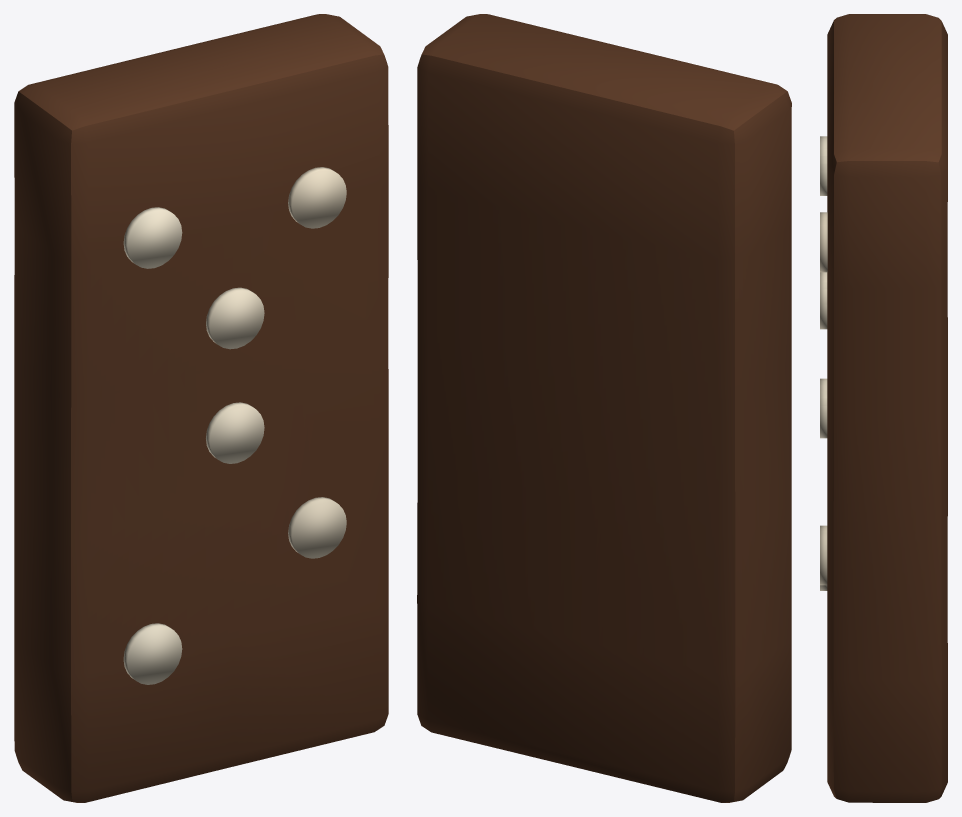
The model's file is den_domino.glb.
3 views of the same model, side by side, from view 1: azimuth 30°, elevation 25°; view 2: azimuth 150°, elevation 25°; view 3: azimuth 270°, elevation 25° (orthographic). The views are drawn at different scales.
Parts seen in each view (by area): view 1: den_domino; view 2: den_domino; view 3: den_domino.
Part boxes in pixels (x1,y1,x2,y2): den_domino: (14,14,388,802); den_domino: (417,14,791,802); den_domino: (820,14,947,802).
Size of the model in its own units: 2.4 by 4.8 by 0.8515.
